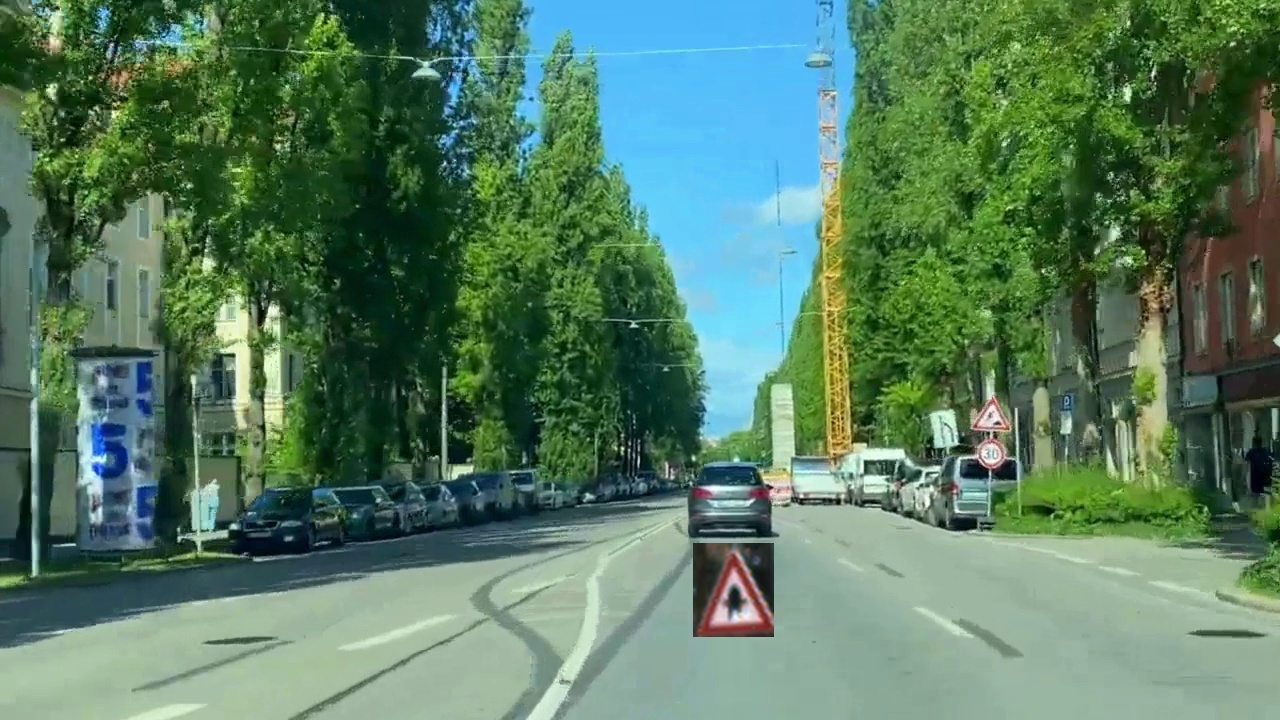Right-of-way: (693, 543, 774, 637)
